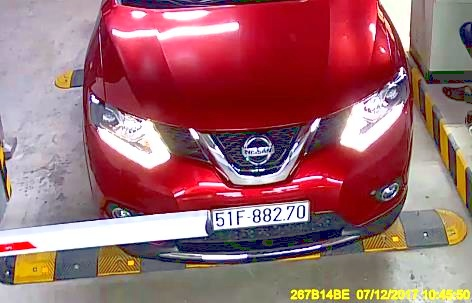plate: (212, 200, 312, 231)
